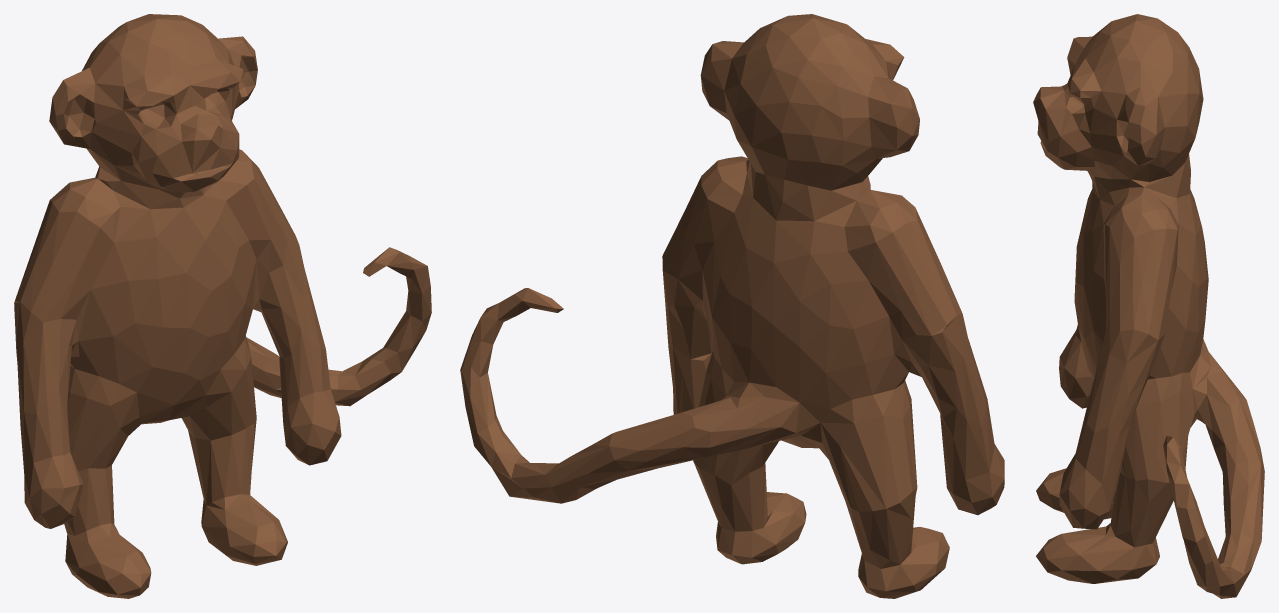
File: NEW_RECOVERY_040_LOD2.glb
3 views of the same model, side by side, from view 1: azimuth 30°, elevation 25°; view 2: azimuth 150°, elevation 25°; view 3: azimuth 270°, elevation 25° (orthographic). The views are drawn at different scales.
Visible parts, largest first — view 1: Monkey; view 2: Monkey; view 3: Monkey.
Boxes of the visible parts, <box> form: Monkey: <box>14,14,431,598</box>; Monkey: <box>460,14,1004,598</box>; Monkey: <box>1033,14,1264,598</box>.
Bounding box in the file's own units: 2.91 × 3.27 × 1.3.
